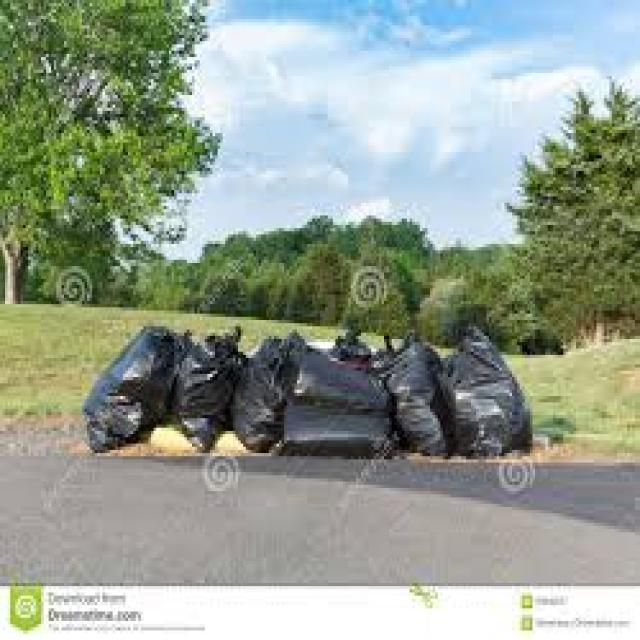plastic_bag: (441, 350, 521, 467), (82, 341, 169, 446), (239, 350, 293, 464), (286, 346, 381, 406), (288, 410, 403, 457), (185, 330, 229, 451), (390, 347, 436, 407)
